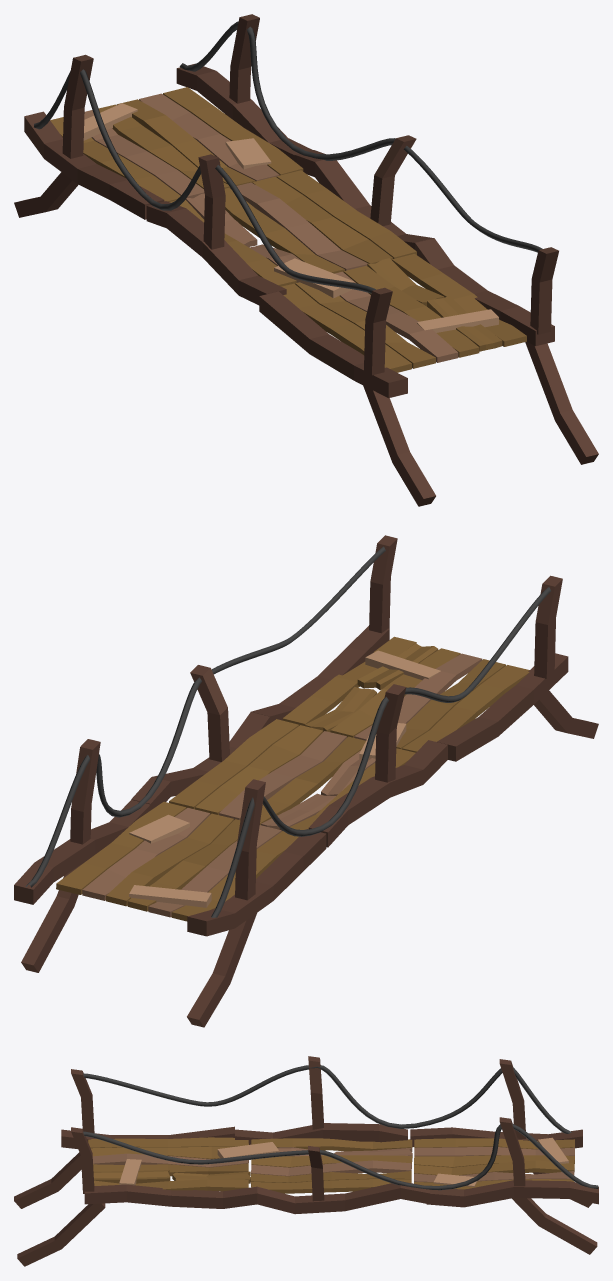
Rendered from most.fbx.
3 views of the same model, one above another, from view 1: azimuth 30°, elevation 25°; view 2: azimuth 150°, elevation 25°; view 3: azimuth 270°, elevation 25° (orthographic). The views are drawn at different scales.
Parts seen in each view (by area): view 1: Cube.009; view 2: Cube.009; view 3: Cube.009.
Part boxes in pixels (x1,y1,x2,y2): Cube.009: (14,14,598,506); Cube.009: (14,535,598,1027); Cube.009: (14,1056,598,1266).
Bounding box in the file's own units: 831 × 763 × 2799.
